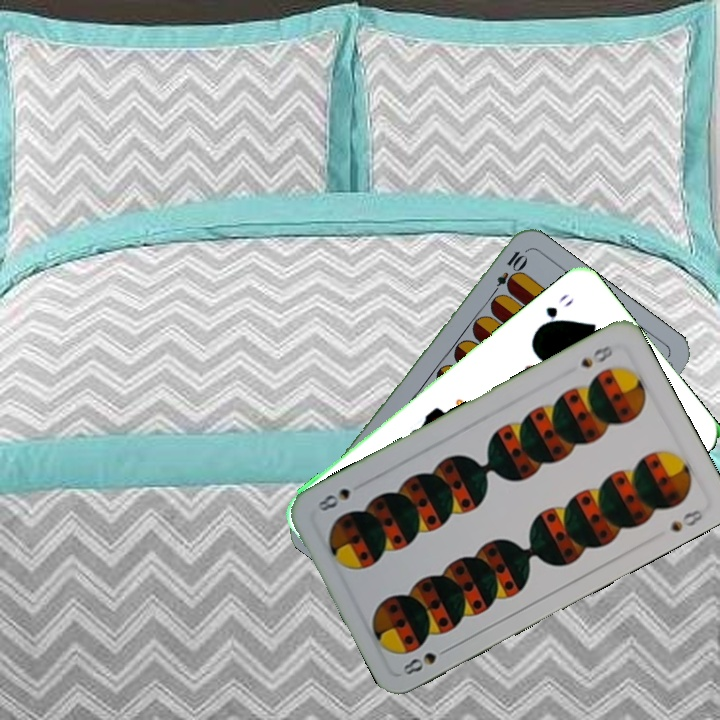E10: (486, 246, 528, 301)
GO: (533, 289, 577, 333)
S8: (398, 642, 454, 678), (576, 341, 616, 371)
